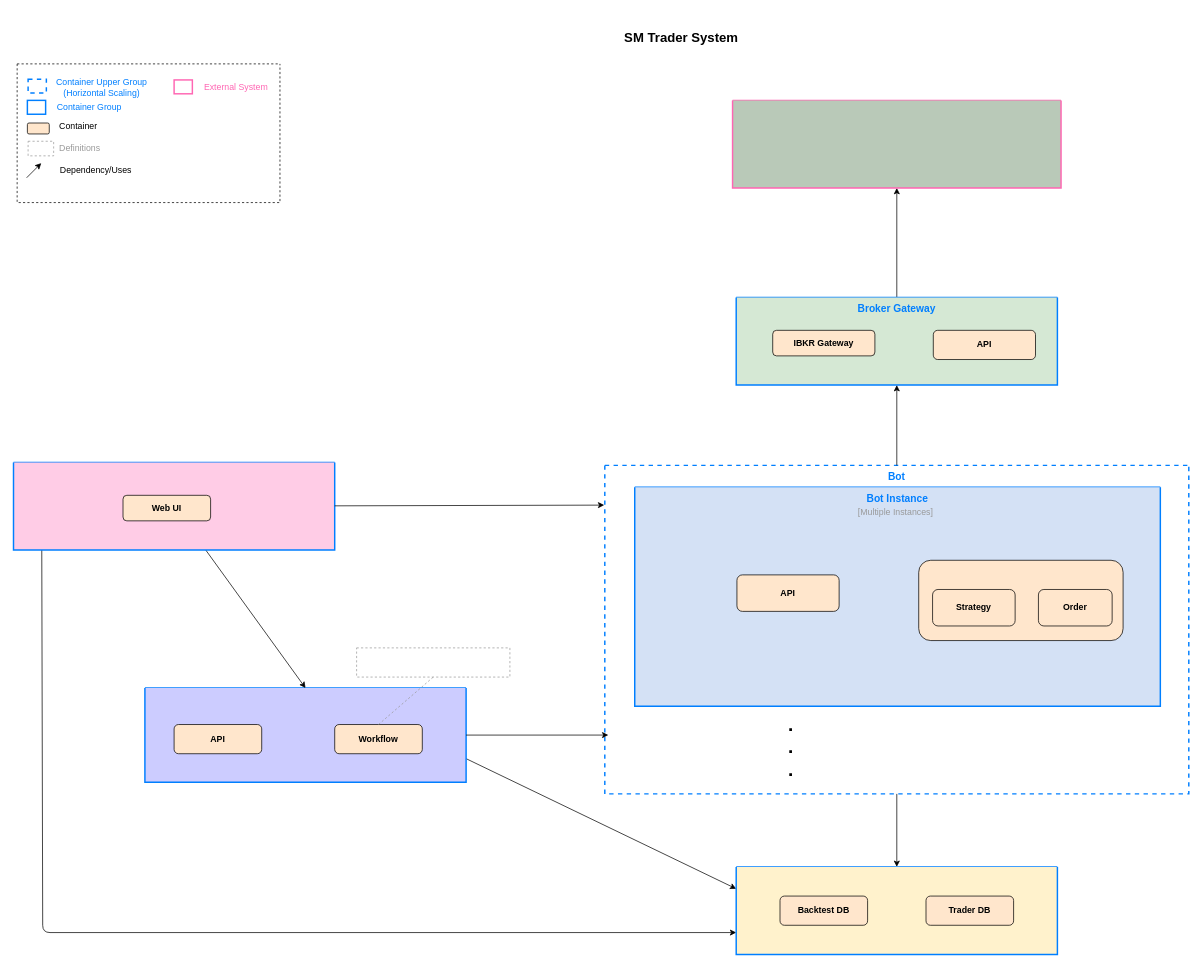
Some shapes in this 1202 by 967 pixel diagram are drawn without their labels. Each missing label, with the box of its shape:
- Portfolio Management - Budget Management: (356, 647, 510, 677)
Broker: (731, 99, 1061, 188)
Data: (735, 866, 1058, 955)
Executer: (144, 687, 466, 783)
Legend: (16, 63, 280, 203)
Trader: (918, 560, 1123, 641)
UI: (12, 461, 335, 550)
